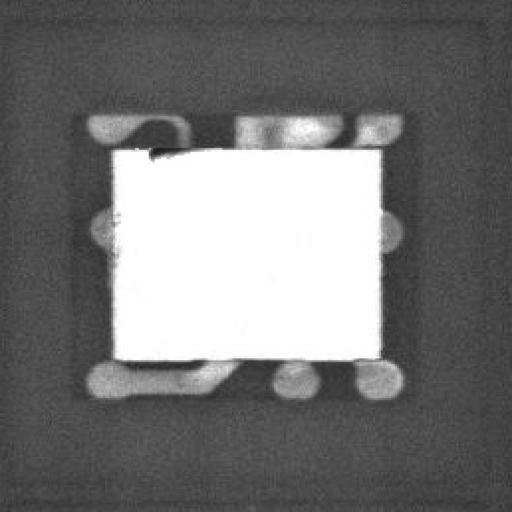DIE_BROKEN: (141, 138, 188, 160)
